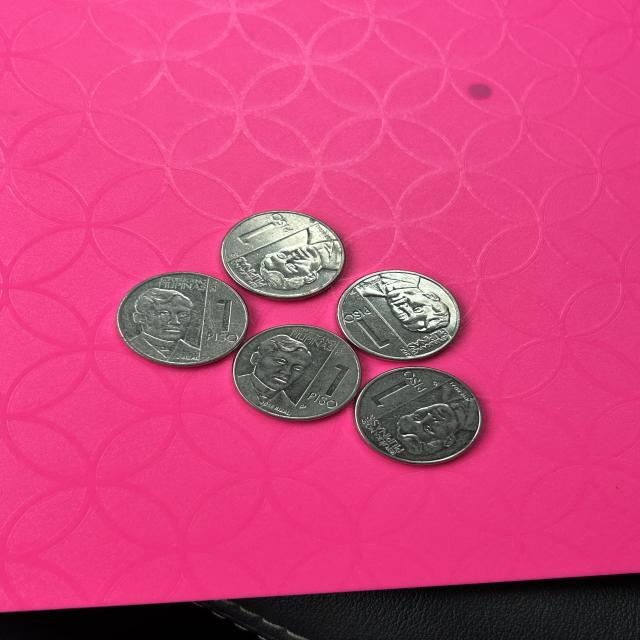1_New_Front: (343, 302, 386, 349), (375, 369, 418, 415), (208, 297, 238, 353), (238, 214, 285, 247), (314, 361, 344, 412)
